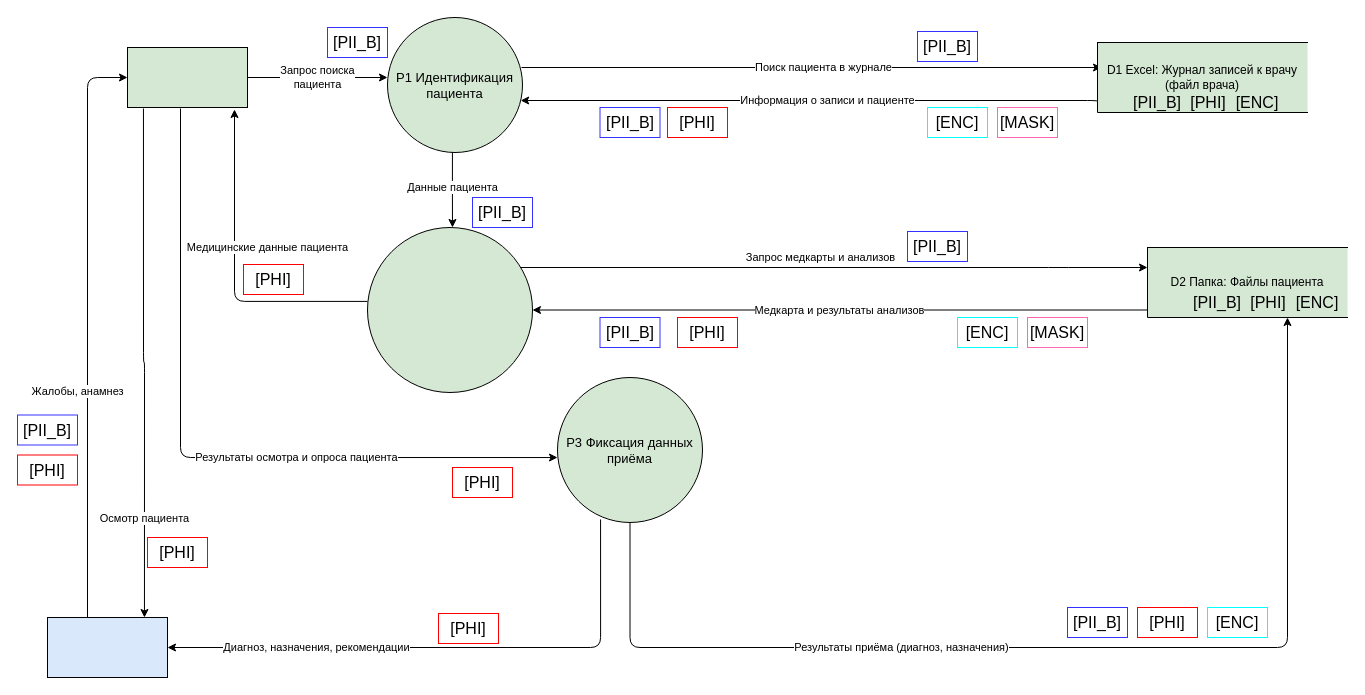
Some shapes in this 1365 by 695 pixel diagram are drawn without their labels. The shapes that lost their labels are listed below. From the top down, each one's centre as x and y in pixels, then its label:
the point at 187,77: Врач
the point at 449,309: P2 Просмотр медкарты и результатов анализов
the point at 107,647: Пациент
